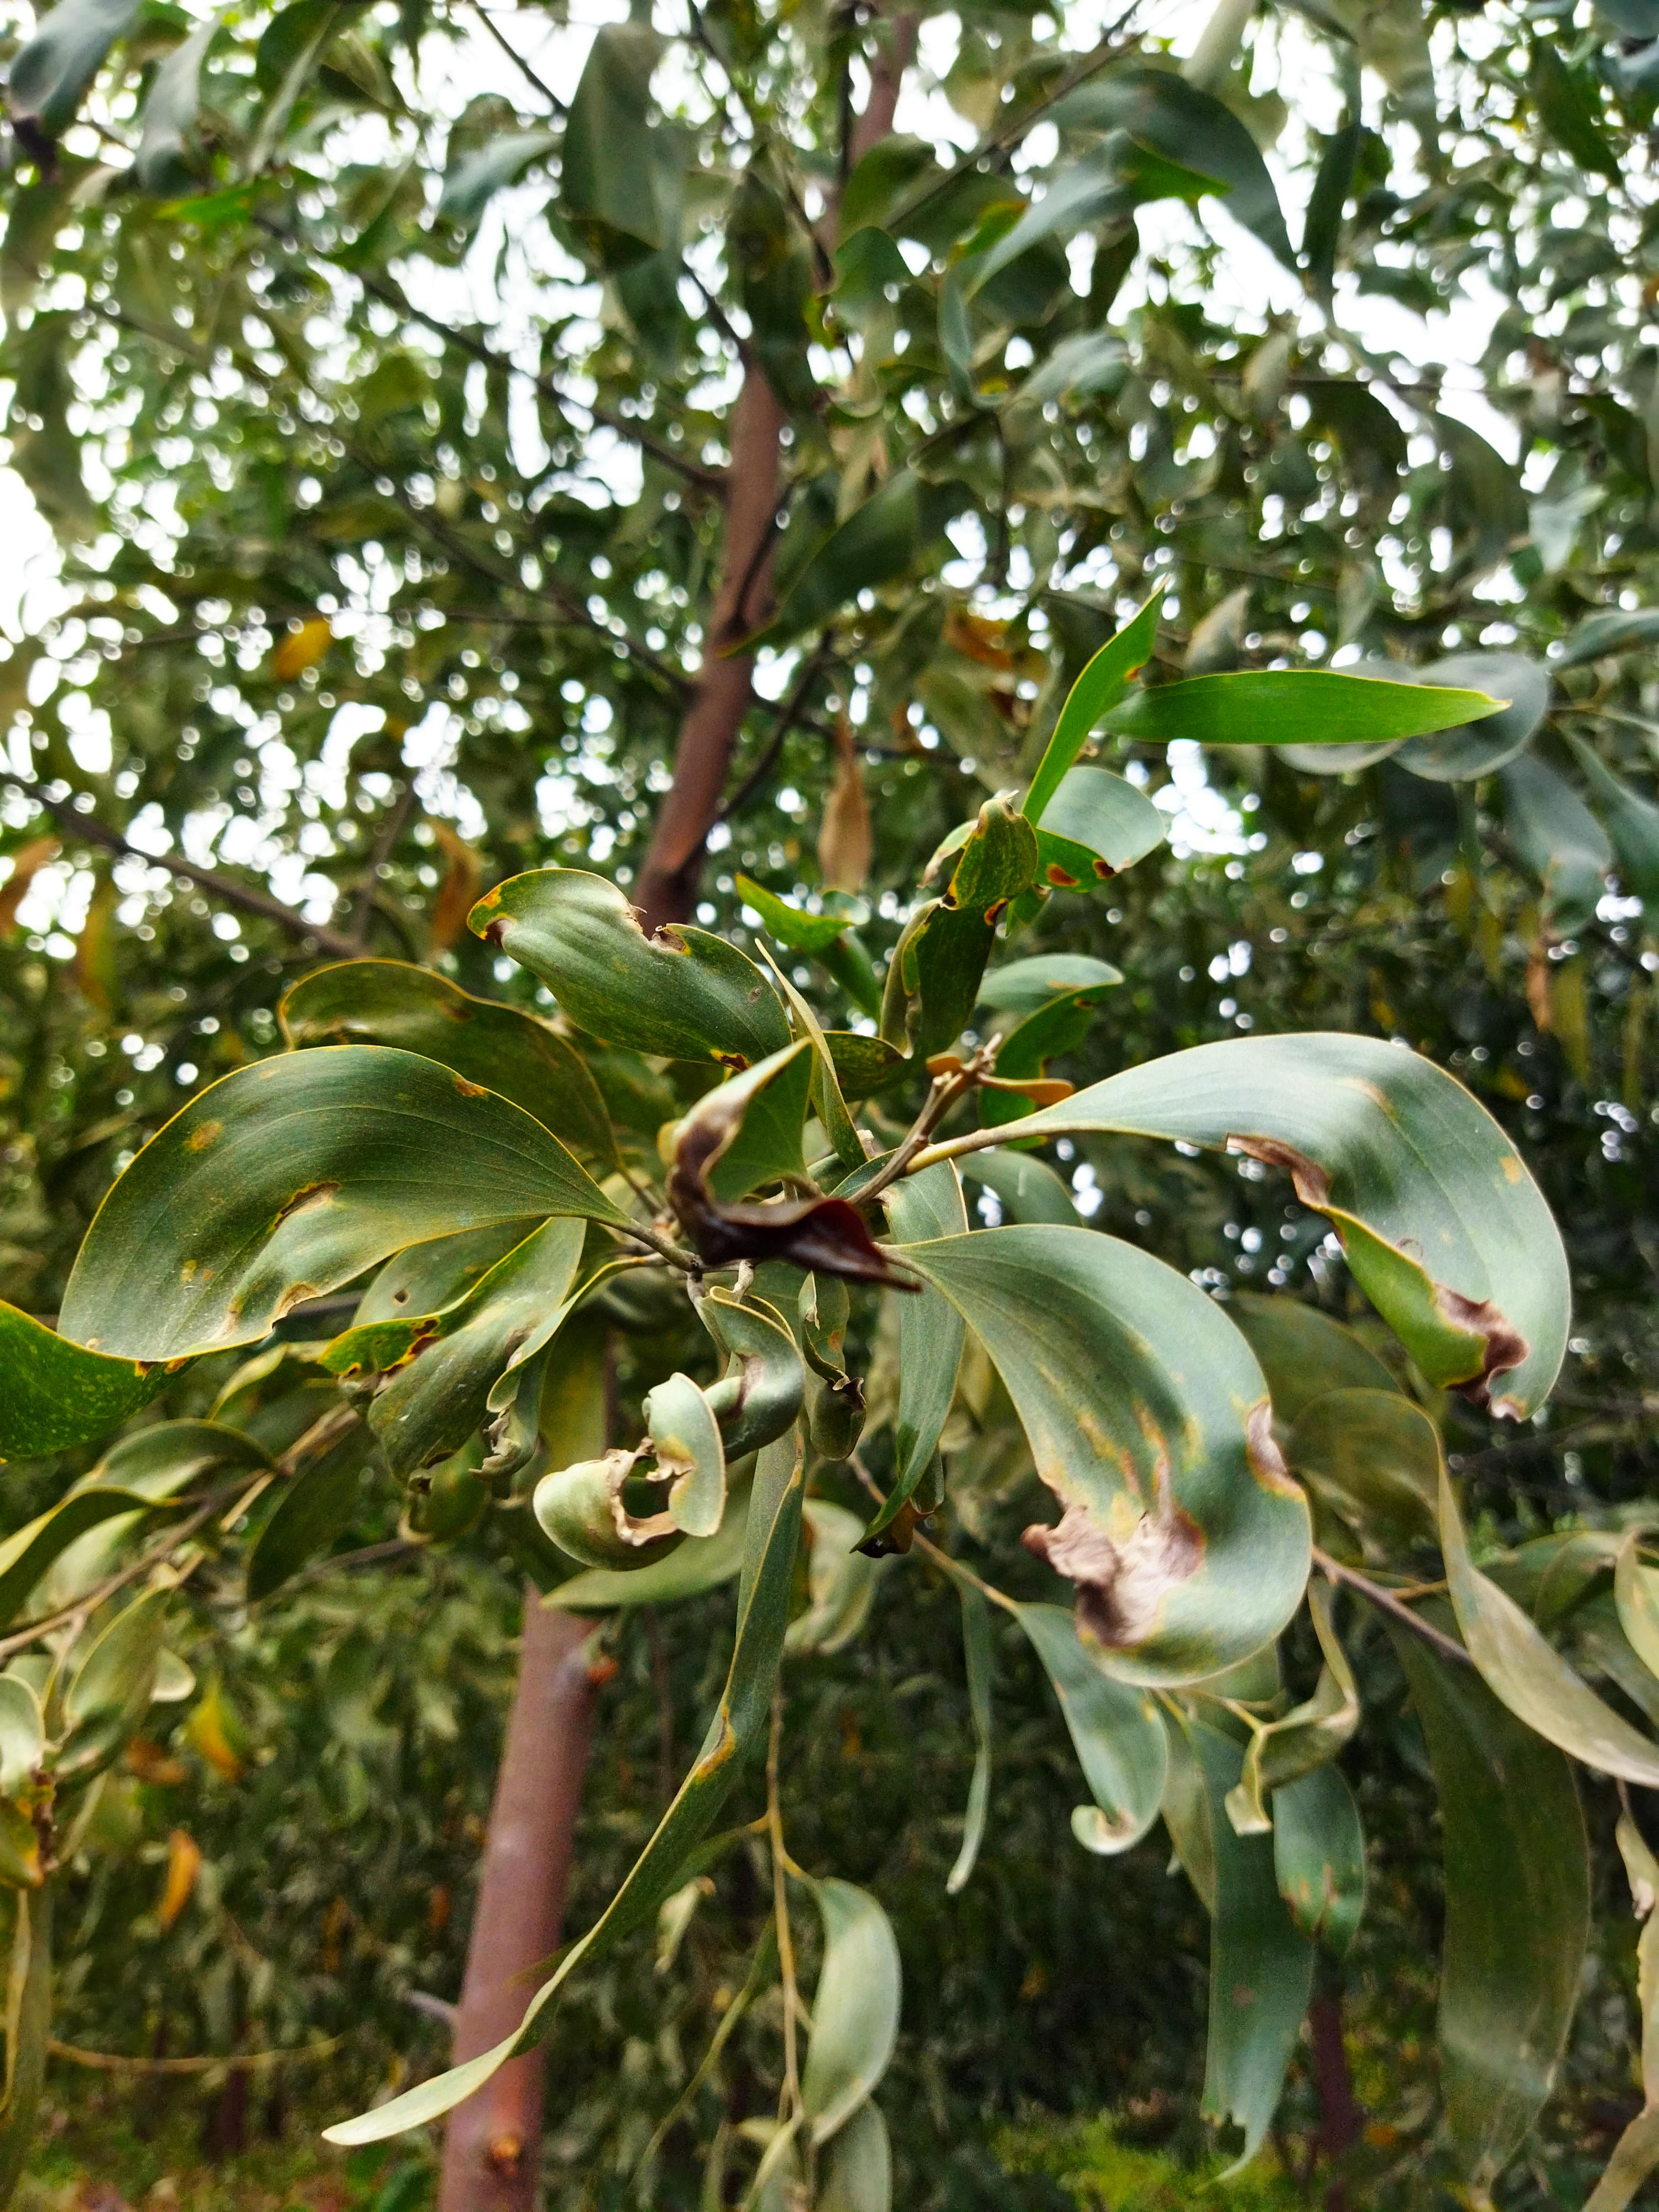Pasalora: (1195, 1085, 1659, 1430), (974, 1350, 1323, 1686), (559, 1390, 732, 1594)
